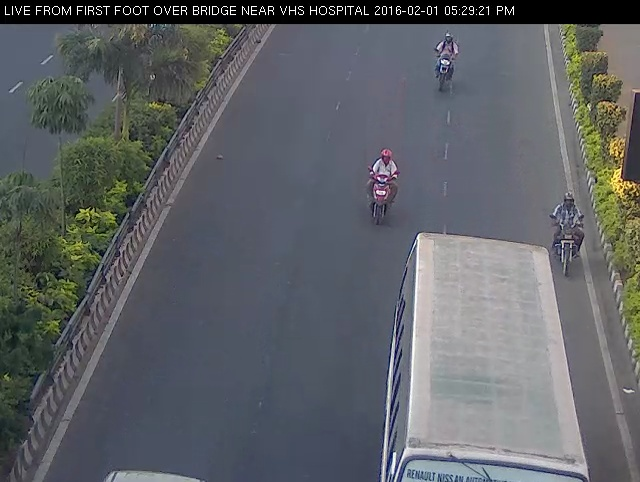Bus: (371, 214, 600, 481)
Car: (87, 456, 225, 482)
Person: (544, 183, 596, 283), (362, 138, 402, 235), (428, 26, 466, 99)
